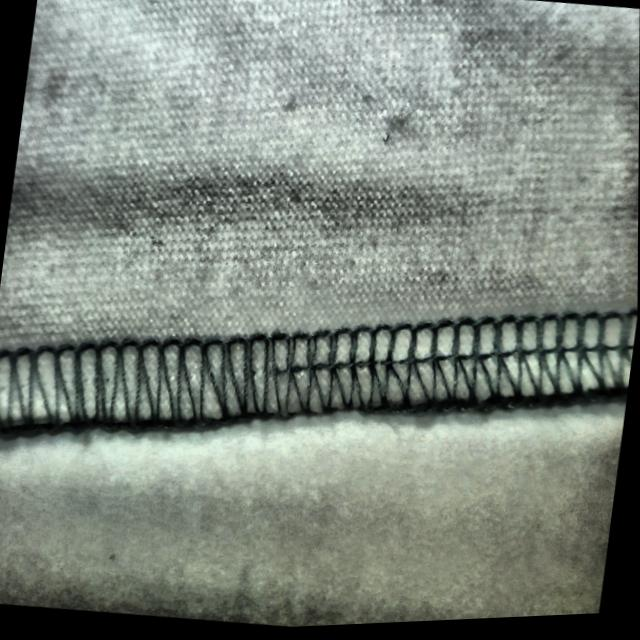Stitch: (78, 277, 487, 478)
